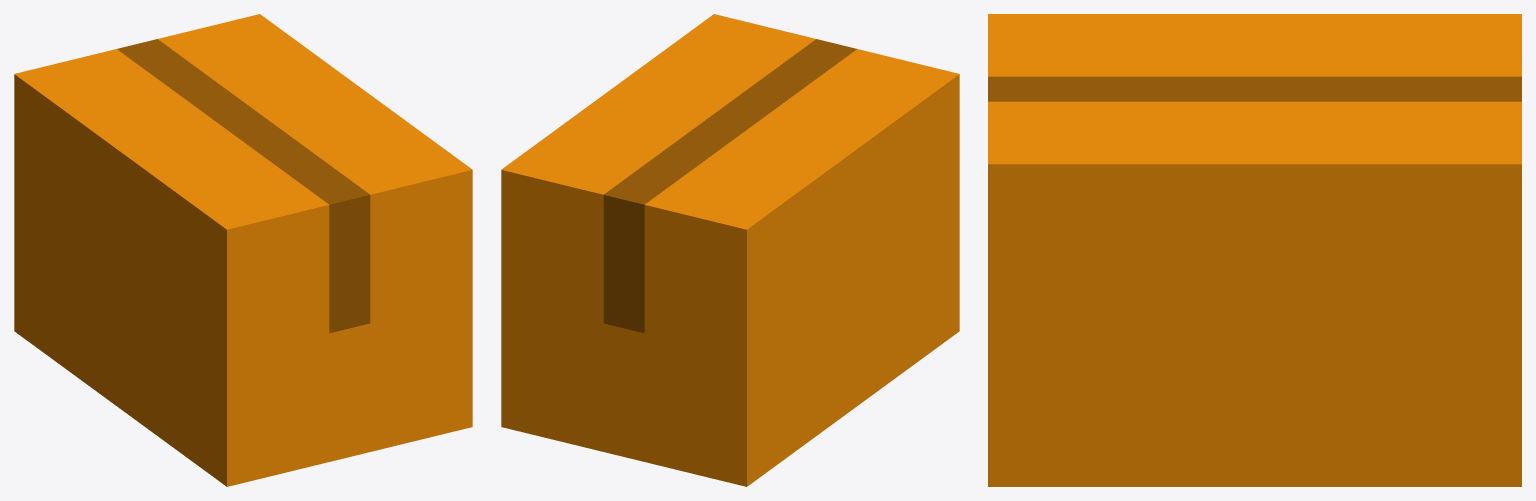
3 renders of one model, left to right at view 1: azimuth 30°, elevation 25°; view 2: azimuth 150°, elevation 25°; view 3: azimuth 270°, elevation 25°, orthographic. The views are drawn at different scales.
Parts seen in each view (by area): view 1: Cube; view 2: Cube; view 3: Cube.
Part boxes in pixels (x1,y1,x2,y2): Cube: (14, 14, 472, 486); Cube: (501, 14, 959, 486); Cube: (988, 14, 1521, 486).
Bounding box in the file's own units: 100 × 100 × 150.
